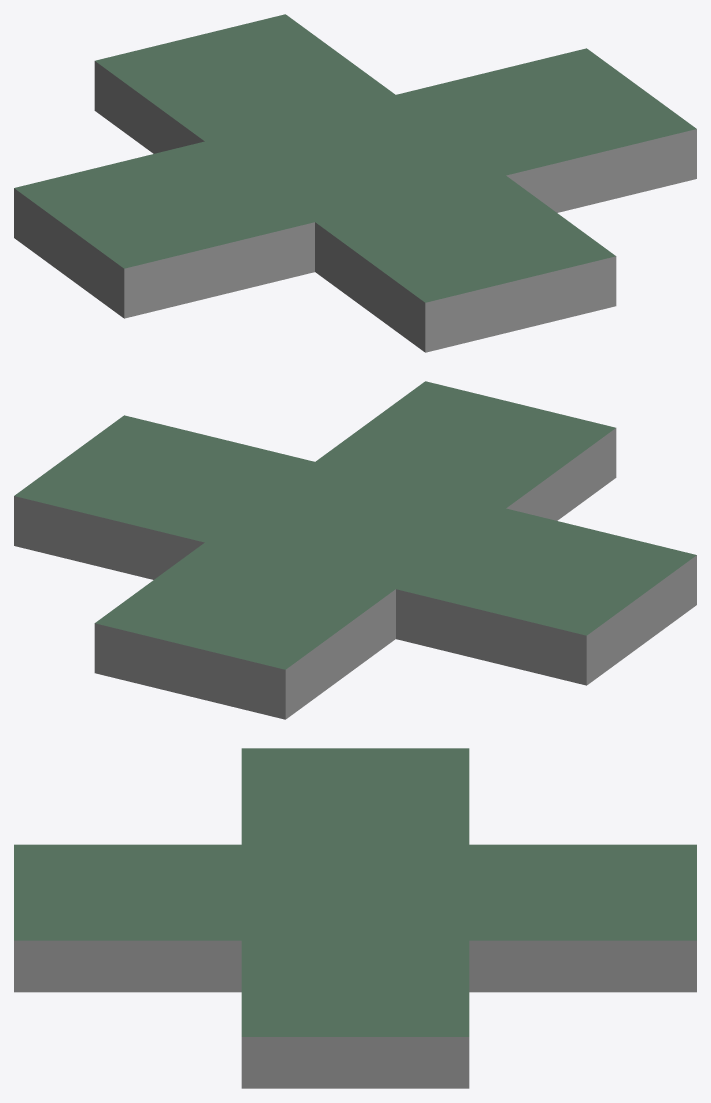
The model's file is Lab_block_4Ways_Floor.fbx.
3 views of the same model, one above another, from view 1: azimuth 30°, elevation 25°; view 2: azimuth 150°, elevation 25°; view 3: azimuth 270°, elevation 25° (orthographic). The views are drawn at different scales.
Visible parts, largest first — view 1: Ways_Floor4; view 2: Ways_Floor4; view 3: Ways_Floor4.
Boxes of the visible parts, x1=… form: Ways_Floor4: x1=14, y1=14, x2=696, y2=352; Ways_Floor4: x1=14, y1=381, x2=696, y2=719; Ways_Floor4: x1=14, y1=748, x2=696, y2=1088.
Bounding box in the file's own units: 6 × 0.5 × 6.
